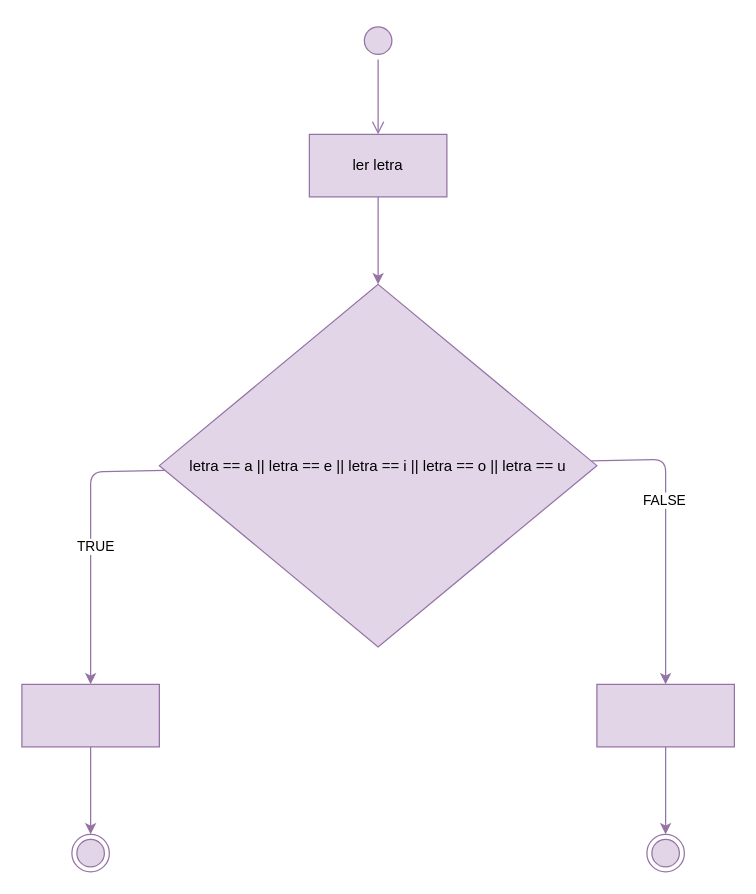
This 756x894 diagram has some shape labels left out. Each missing label, with the centre of its shape:
escreva Não é vogal: point (665, 715)
escreva É vogal: point (90, 715)
